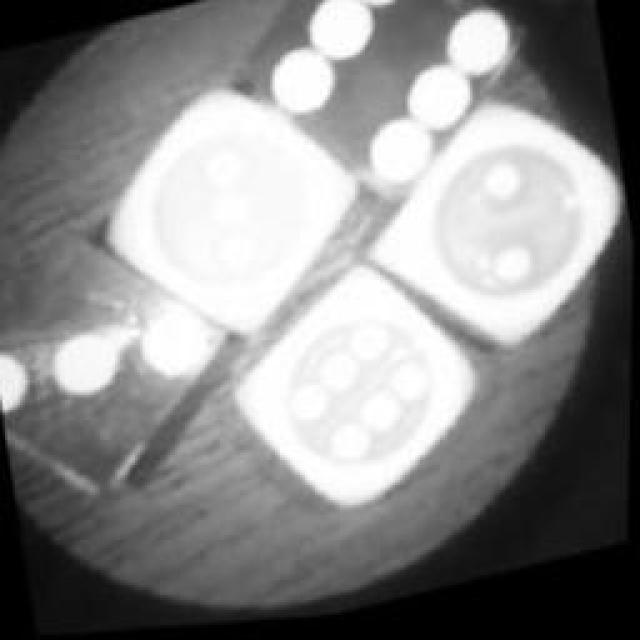dice_2: (355, 79, 637, 386)
dice_3: (84, 60, 374, 362), (0, 192, 248, 520)
dice_6: (214, 238, 504, 538), (242, 0, 552, 232)
